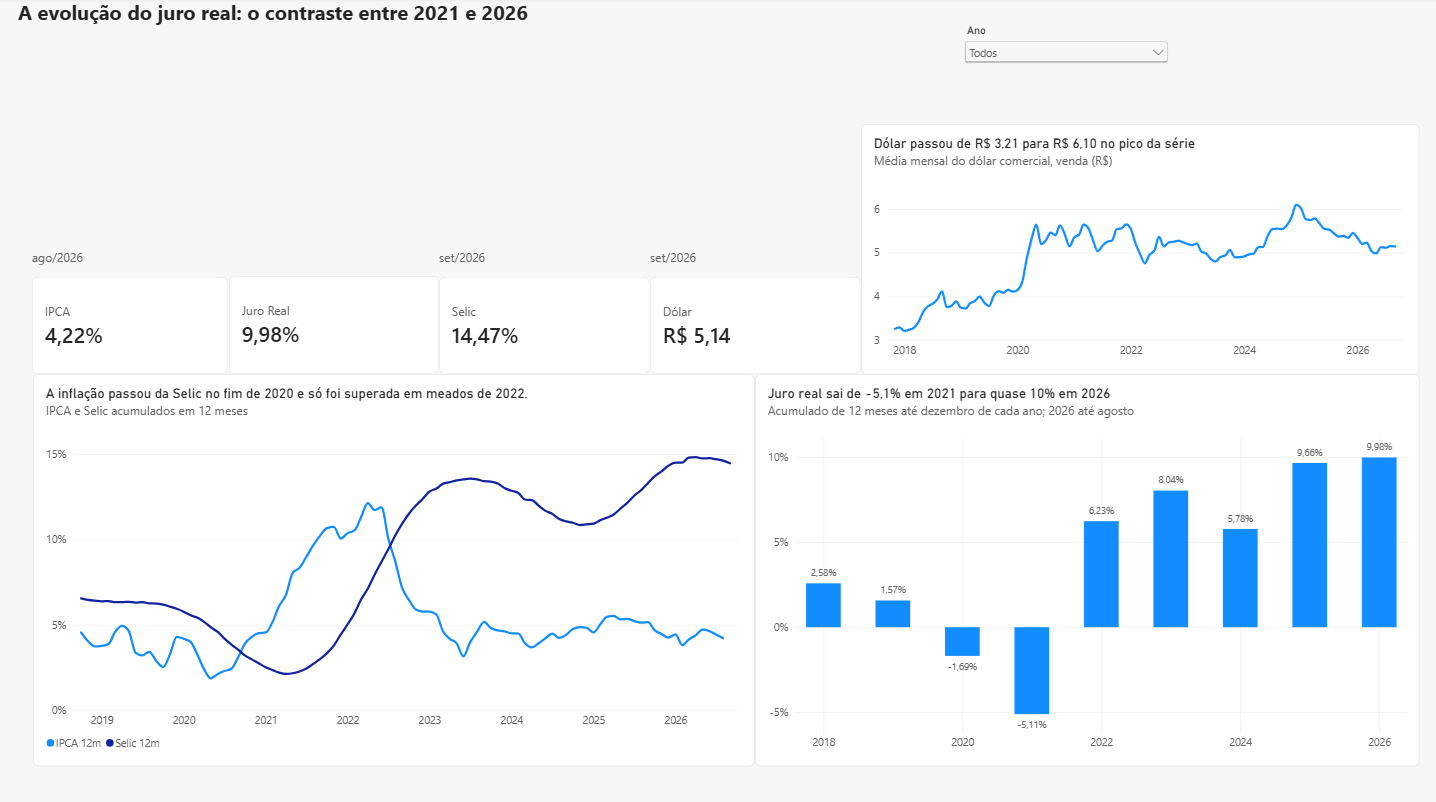

The dashboard page shown, as its layout file describes it:
{"tool":"powerbi","page":{"name":"Página 1","canvas":[1920,1080],"ordinal":0},"visuals":[{"type":"cardVisual","fields":{"Data":["_Medidas.IPCA 12m"]},"box":[51,333.8,260.7,166.3],"z":0},{"type":"cardVisual","fields":{"Data":["_Medidas.Juro Real 12m"]},"box":[312.6,369.8,279.3,130.3],"z":1000},{"type":"cardVisual","fields":{"Data":["_Medidas.Selic 12m"]},"box":[591.9,333.8,280.6,166.3],"z":2000},{"type":"cardVisual","fields":{"Data":["_Medidas.Dólar"]},"box":[872.5,333.8,280.6,166.3],"z":3000},{"type":"lineChart","title":"A inflação passou da Selic no fim de 2020 e só foi superada em meados de 2022.","fields":{"Category":["dCalendario.Data"],"Y":["_Medidas.IPCA 12m","_Medidas.Selic 12m"]},"box":[52.5,500.4,960,522.3],"z":4000},{"type":"clusteredColumnChart","title":"Juro real sai de -5,1% em 2021 para quase 10% em 2026","fields":{"Category":["dCalendario.Ano"],"Y":["_Medidas.Juro Real 12m"]},"box":[1012.5,500.4,884.1,522.3],"z":5000},{"type":"lineChart","title":"Dólar passou de R$ 3,21 para R$ 6,10 no pico da série","fields":{"Category":["dCalendario.Data"],"Y":["Sum(fIndicadores.dolar)"]},"box":[1153.2,167.6,743.5,332.5],"z":6000},{"type":"slicer","fields":{"Values":["dCalendario.Ano"]},"box":[1286.8,35,280.1,83.2],"z":7000},{"type":"textbox","box":[32.1,0,980.4,150.3],"z":8000}]}

Visuals, with their boxes in screenshot pixels (x1, y1, x2, y2), scaled from the page's 1920x1080 canvas onto the 1436x802 screenshot:
cardVisual - _Medidas.IPCA 12m: 38,248,233,371
cardVisual - _Medidas.Juro Real 12m: 234,275,443,371
cardVisual - _Medidas.Selic 12m: 443,248,653,371
cardVisual - _Medidas.Dólar: 653,248,862,371
"A inflação passou da Selic no fim de 2020 e só foi superada em meados de 2022." lineChart: 39,372,757,759
"Juro real sai de -5,1% em 2021 para quase 10% em 2026" clusteredColumnChart: 757,372,1418,759
"Dólar passou de R$ 3,21 para R$ 6,10 no pico da série" lineChart: 862,124,1419,371
slicer - dCalendario.Ano: 962,26,1172,88
textbox: 24,0,757,112
